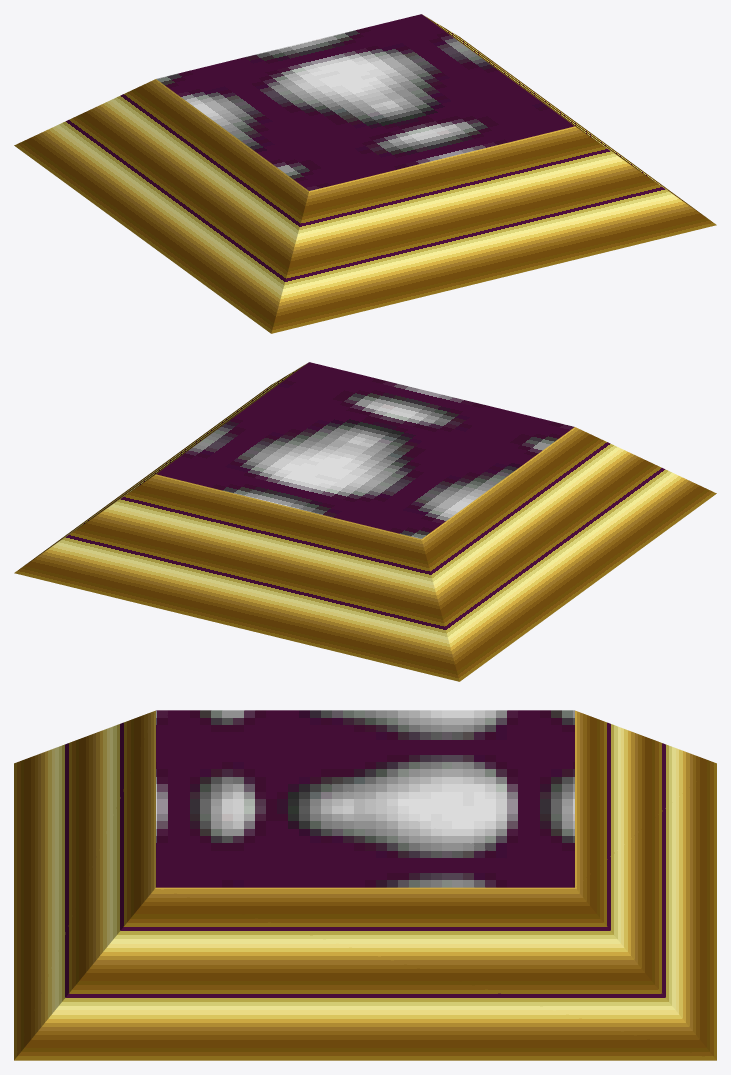
The model's file is Switch.dae.
The picture shows the model from 3 angles, top to bottom: view 1: azimuth 30°, elevation 25°; view 2: azimuth 150°, elevation 25°; view 3: azimuth 270°, elevation 25°; orthographic projection. The views are drawn at different scales.
Visible parts, largest first — view 1: Node2_display; view 2: Node2_display; view 3: Node2_display.
Boxes of the visible parts, x1,y1,x2,y2 form: Node2_display: (14, 14, 716, 333); Node2_display: (14, 362, 716, 681); Node2_display: (14, 710, 716, 1060).
Bounding box in the file's own units: 203 × 36 × 203.
Materials: 2 (2 with a texture image).
